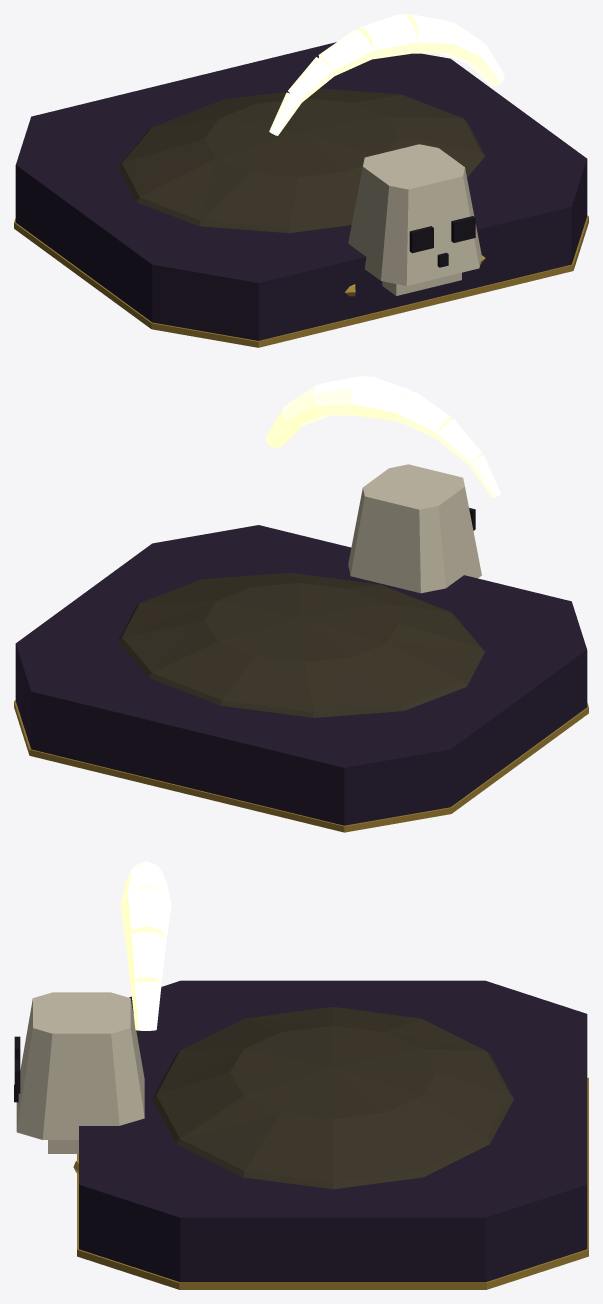
The model's file is skullseal.glb.
3 renders of one model, top to bottom at view 1: azimuth 30°, elevation 25°; view 2: azimuth 150°, elevation 25°; view 3: azimuth 270°, elevation 25°, orthographic. The views are drawn at different scales.
Visible parts, largest first — view 1: Crescent Skull Seal.002; view 2: Crescent Skull Seal.002; view 3: Crescent Skull Seal.002.
Part boxes in pixels (left/top/right/bottom): Crescent Skull Seal.002: left=14, top=14, right=588, bottom=347; Crescent Skull Seal.002: left=14, top=376, right=588, bottom=832; Crescent Skull Seal.002: left=14, top=861, right=588, bottom=1289.
Size of the model in its own units: 0.6318 by 0.3685 by 0.6435.
